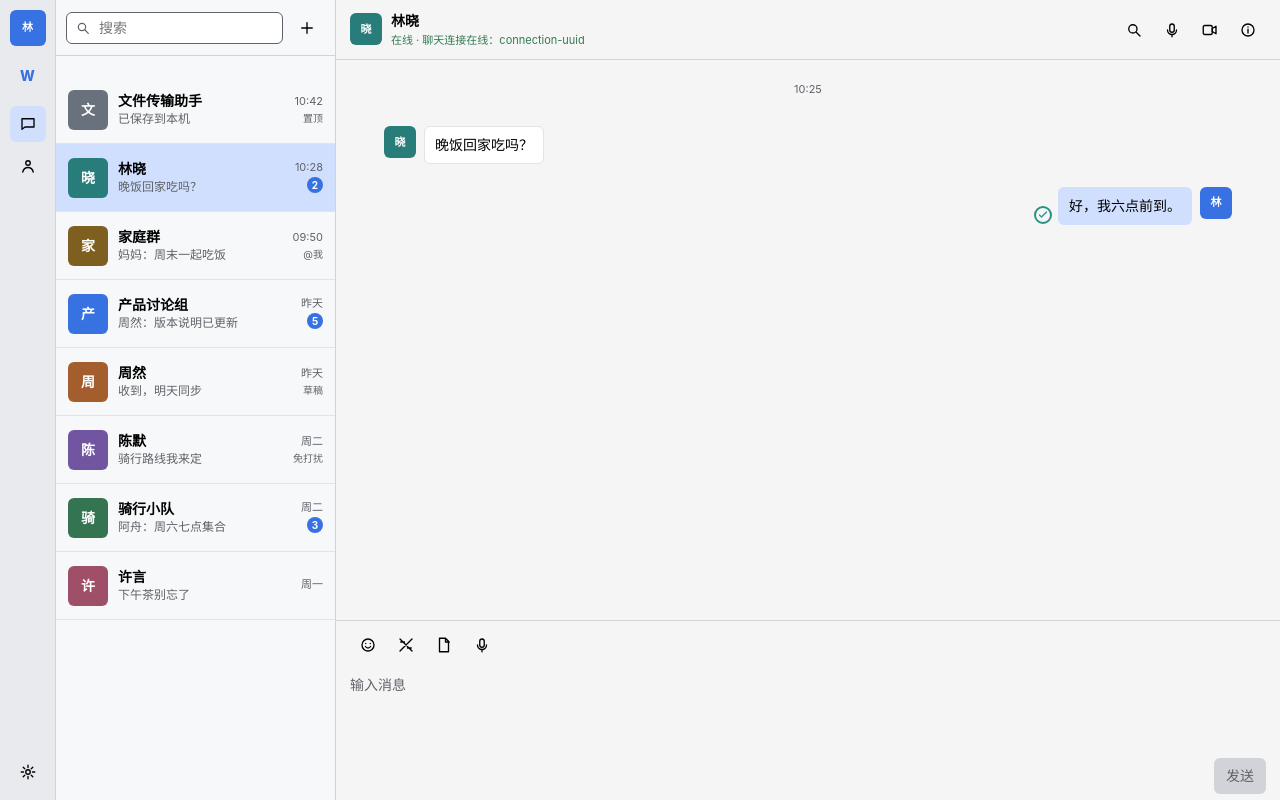
AuthenticatedShell › closes conversation detail when selecting another view from the keyboard
The image size is (1280, 800).
Step 1. Click the button named "会话详情" → click(1248, 30), box x1=1230 y1=12 x2=1266 y2=48
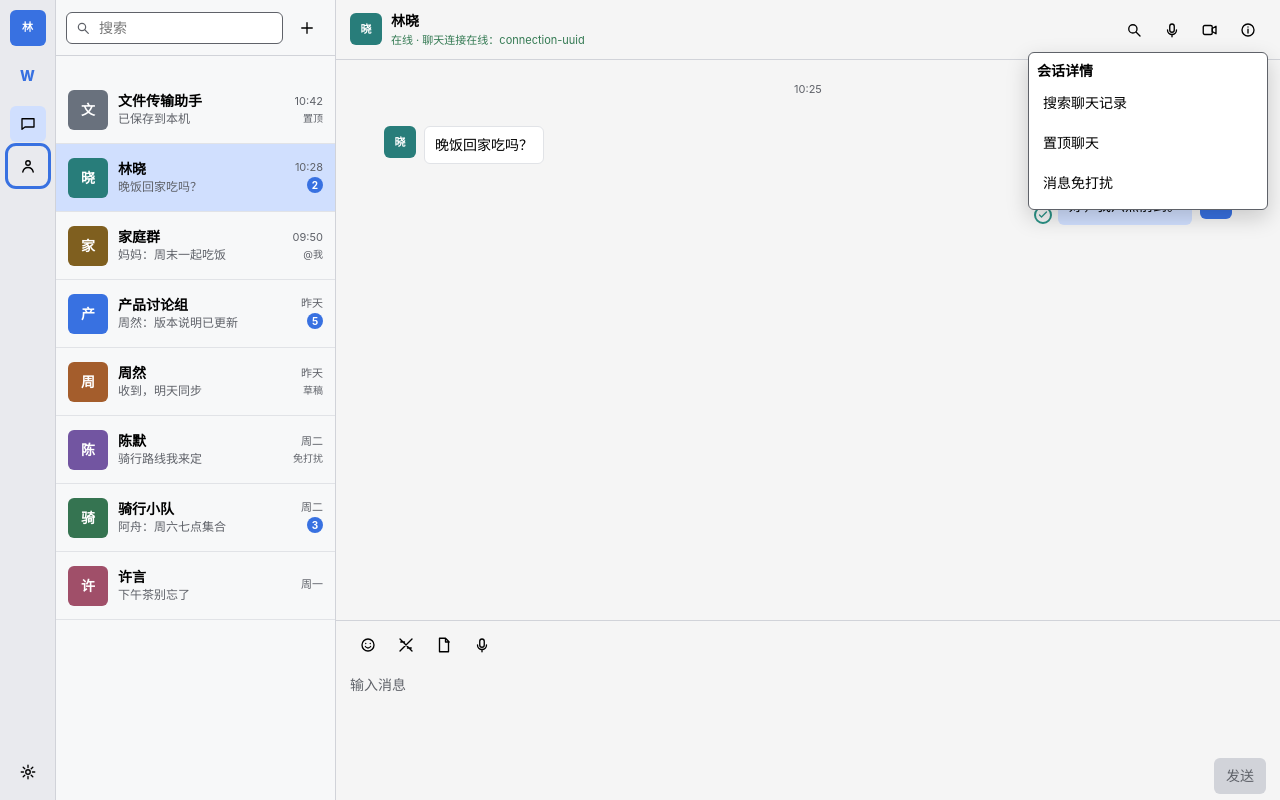
Expected: the dialog "会话详情" is shown, x1=1028 y1=52 x2=1268 y2=210
Step 2. Press Enter
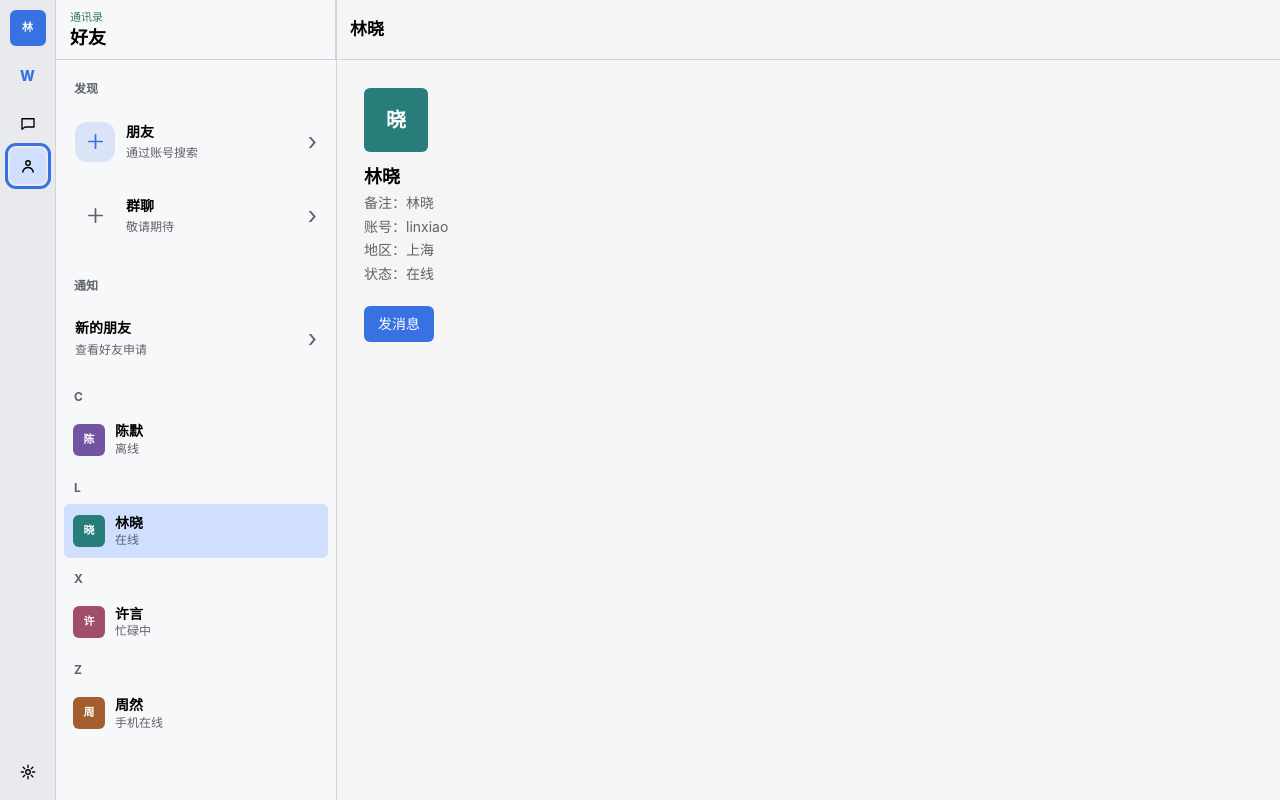
Expected: the dialog "会话详情" is gone
Expected: the element "好友" is shown
